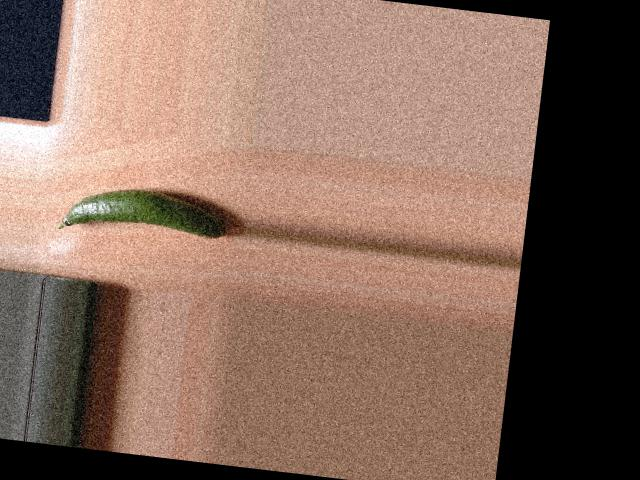cucumber: (56, 179, 231, 248)
